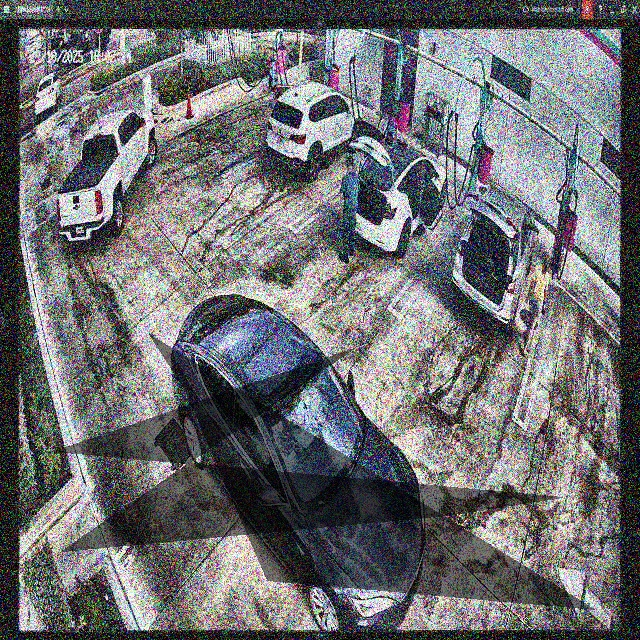Car: (165, 284, 426, 629), (345, 128, 450, 255), (455, 181, 535, 343), (59, 115, 156, 235), (271, 78, 363, 188)
